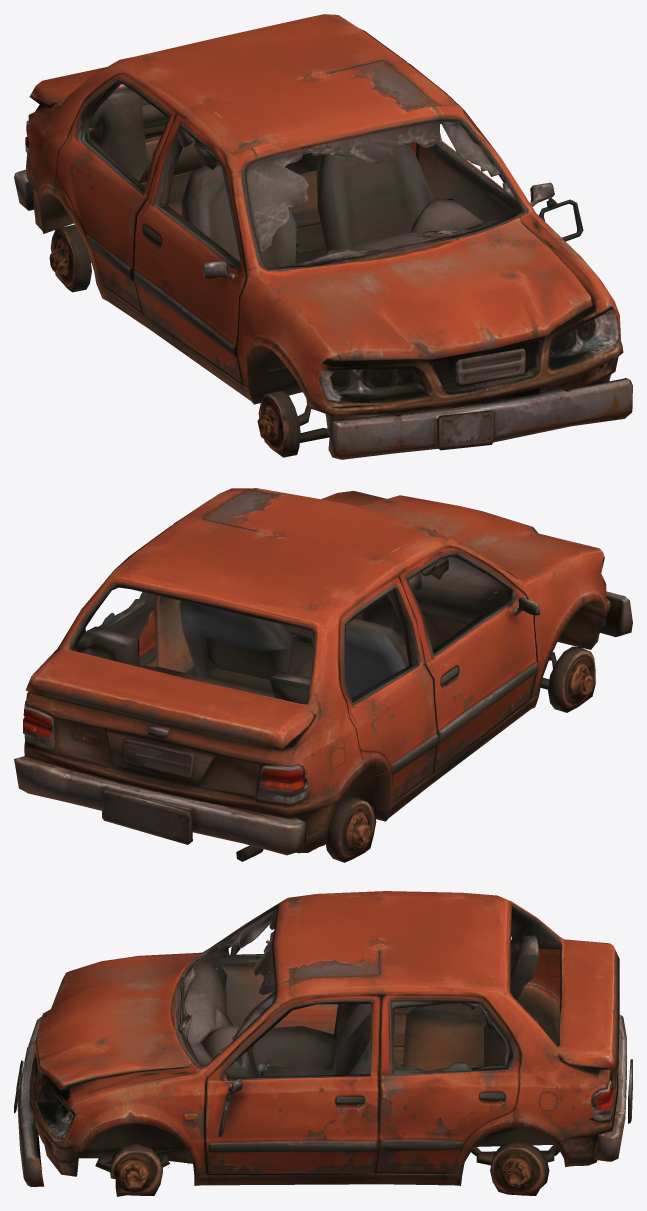
The model's file is destroyed_car.glb.
3 views of the same model, one above another, from view 1: azimuth 30°, elevation 25°; view 2: azimuth 150°, elevation 25°; view 3: azimuth 270°, elevation 25° (orthographic). The views are drawn at different scales.
Visible parts, largest first — view 1: tripo_node_1d1e0ddf-8f59-4ffd-957e-11a8c2da04c8; view 2: tripo_node_1d1e0ddf-8f59-4ffd-957e-11a8c2da04c8; view 3: tripo_node_1d1e0ddf-8f59-4ffd-957e-11a8c2da04c8.
Part boxes in pixels (x1,y1,x2,y2): tripo_node_1d1e0ddf-8f59-4ffd-957e-11a8c2da04c8: [14, 14, 632, 459]; tripo_node_1d1e0ddf-8f59-4ffd-957e-11a8c2da04c8: [14, 488, 632, 862]; tripo_node_1d1e0ddf-8f59-4ffd-957e-11a8c2da04c8: [14, 891, 632, 1196].
Size of the model in its own units: 0.5996 by 0.3613 by 0.998.
Materials: 1 (1 with a texture image).
